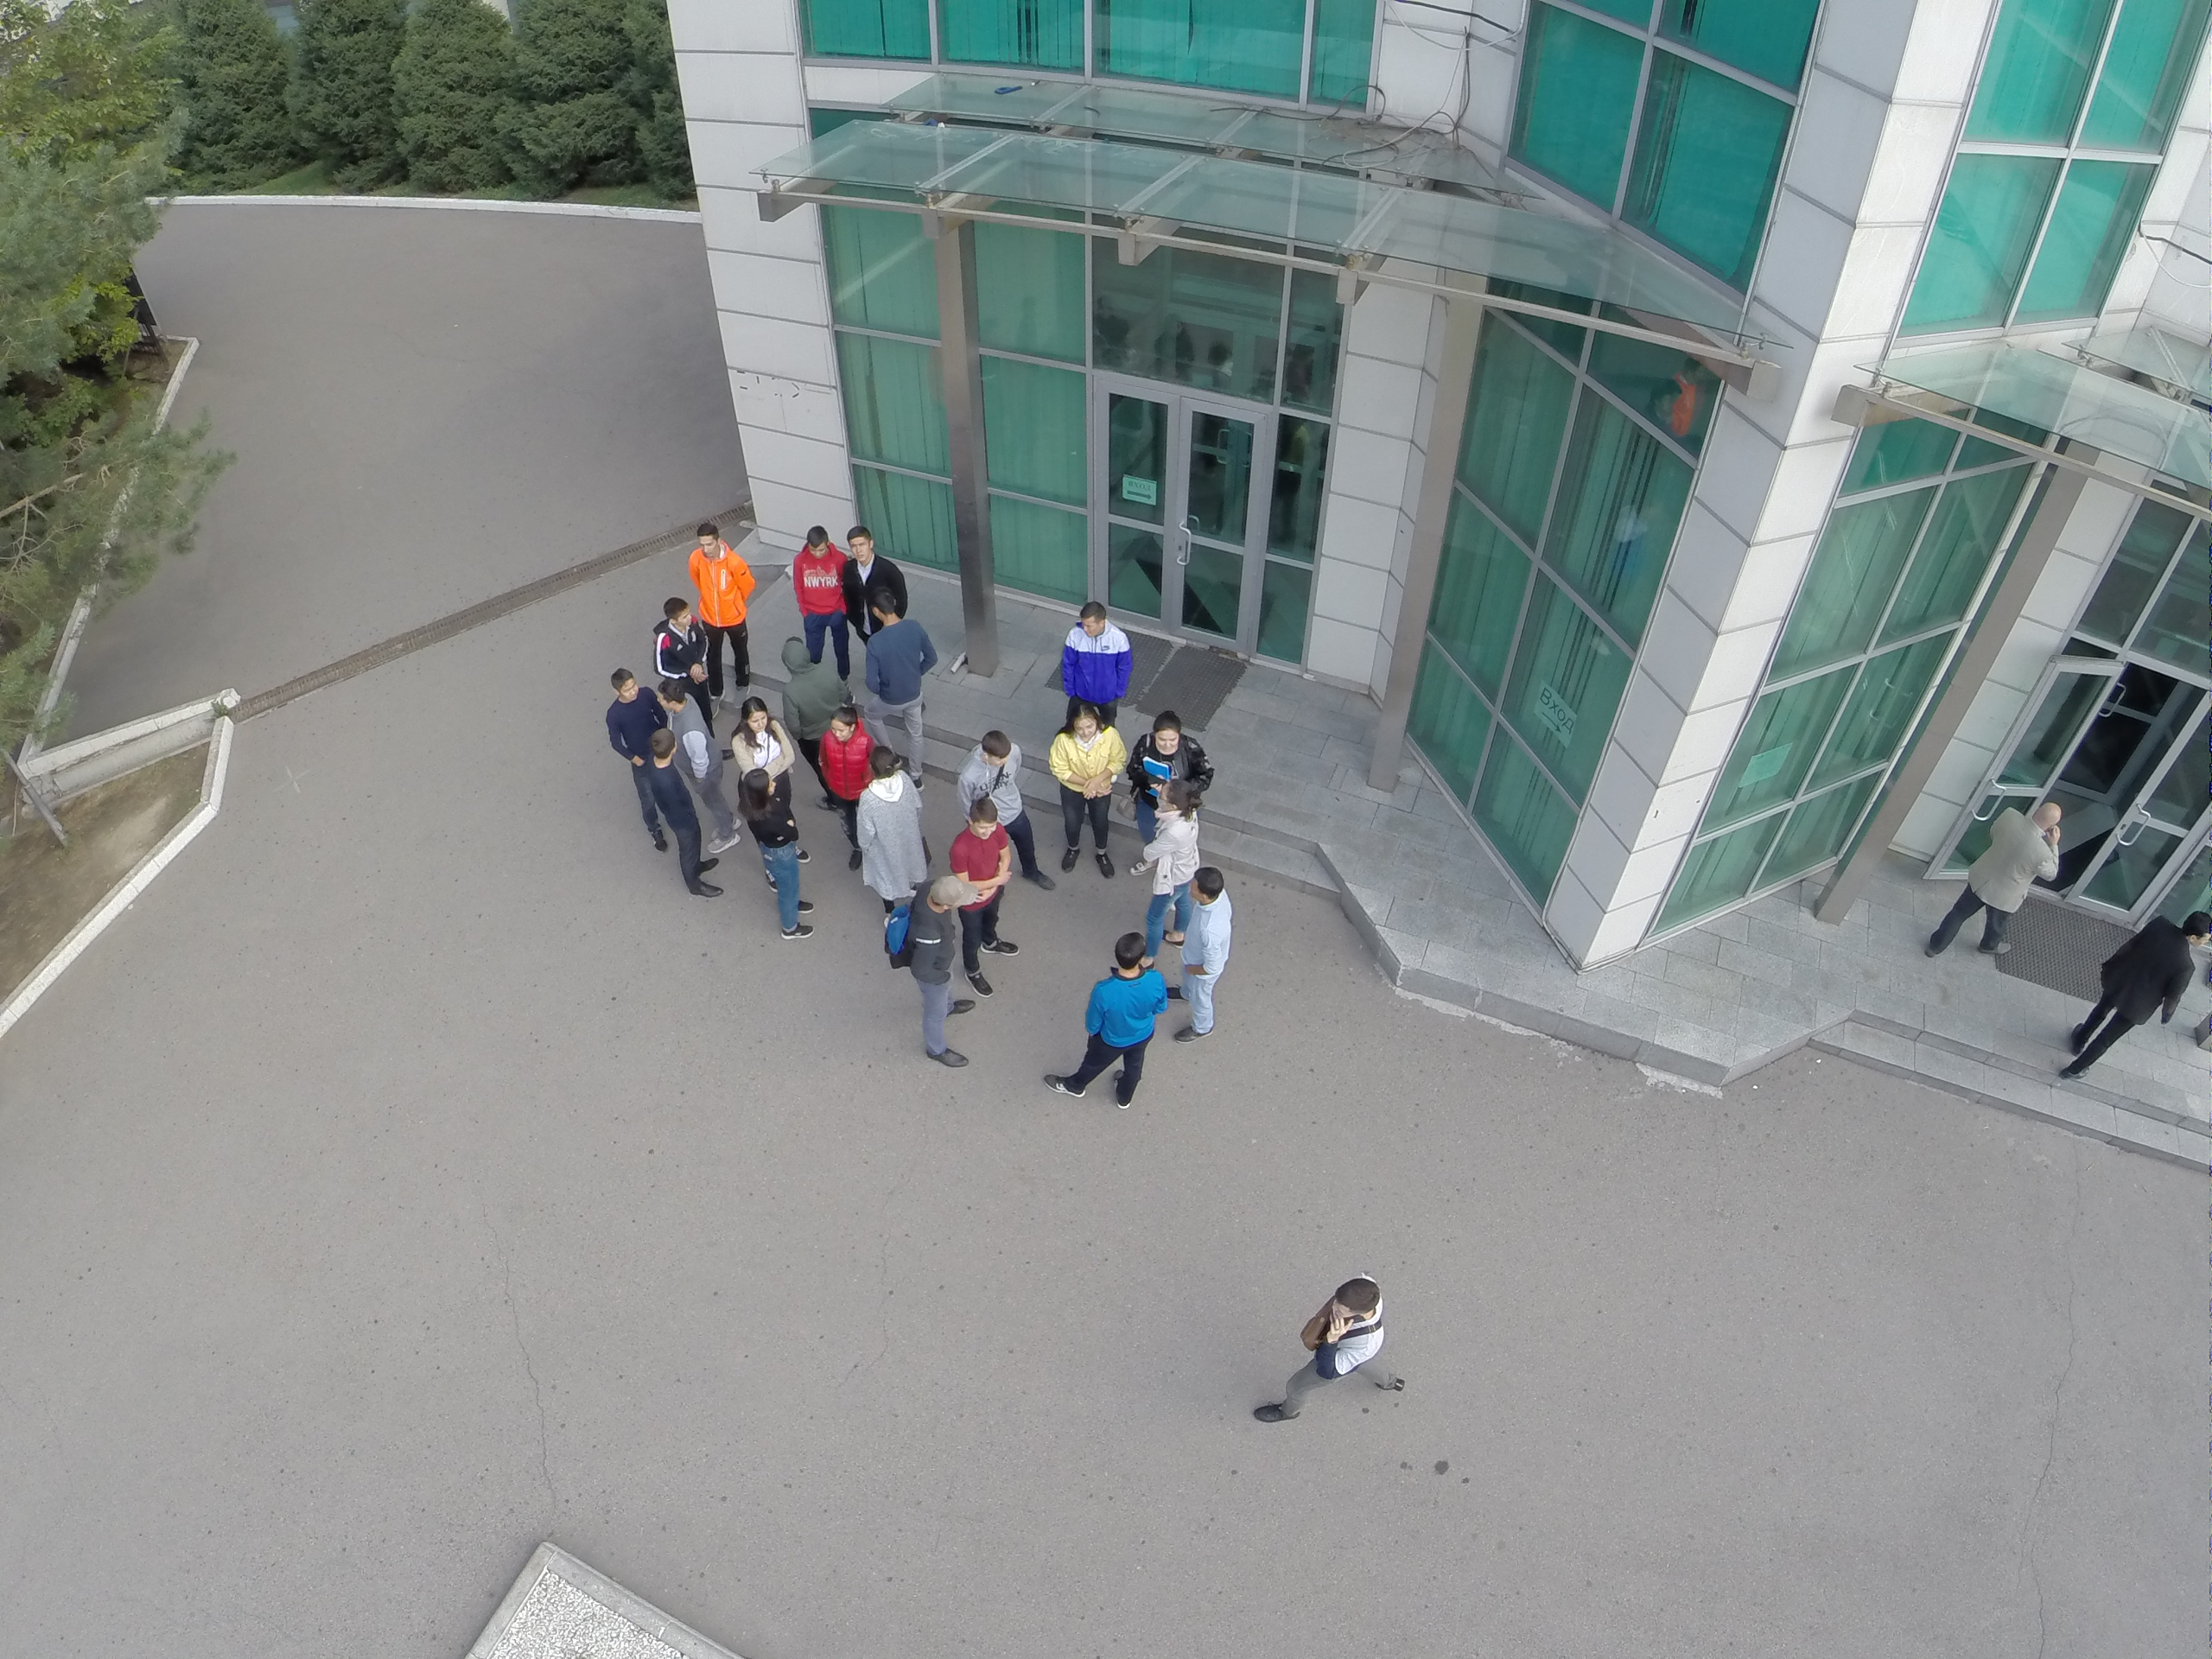person: (1248, 1269, 1416, 1451), (2056, 908, 2207, 1079), (1922, 793, 2064, 969), (1040, 933, 1170, 1116), (894, 869, 986, 1076), (1042, 700, 1131, 886), (645, 732, 723, 905), (855, 588, 928, 769), (736, 773, 815, 942), (663, 687, 742, 854), (1168, 861, 1234, 1036), (683, 521, 759, 664), (963, 803, 1018, 999), (810, 698, 872, 860), (1149, 772, 1205, 951), (861, 758, 926, 901), (789, 524, 856, 658), (1059, 602, 1135, 713), (988, 728, 1042, 880), (768, 636, 851, 726), (652, 593, 715, 698), (842, 531, 901, 620), (603, 666, 677, 730), (736, 703, 789, 777), (1142, 717, 1202, 775)
